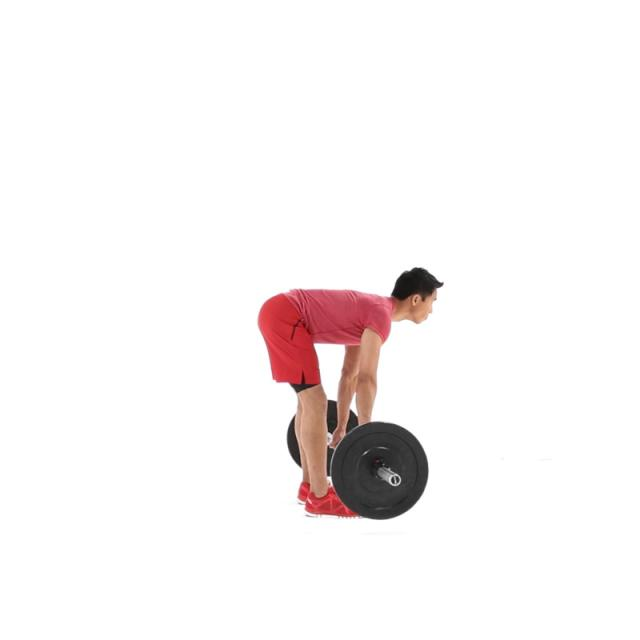deadlift: (242, 251, 458, 538)
